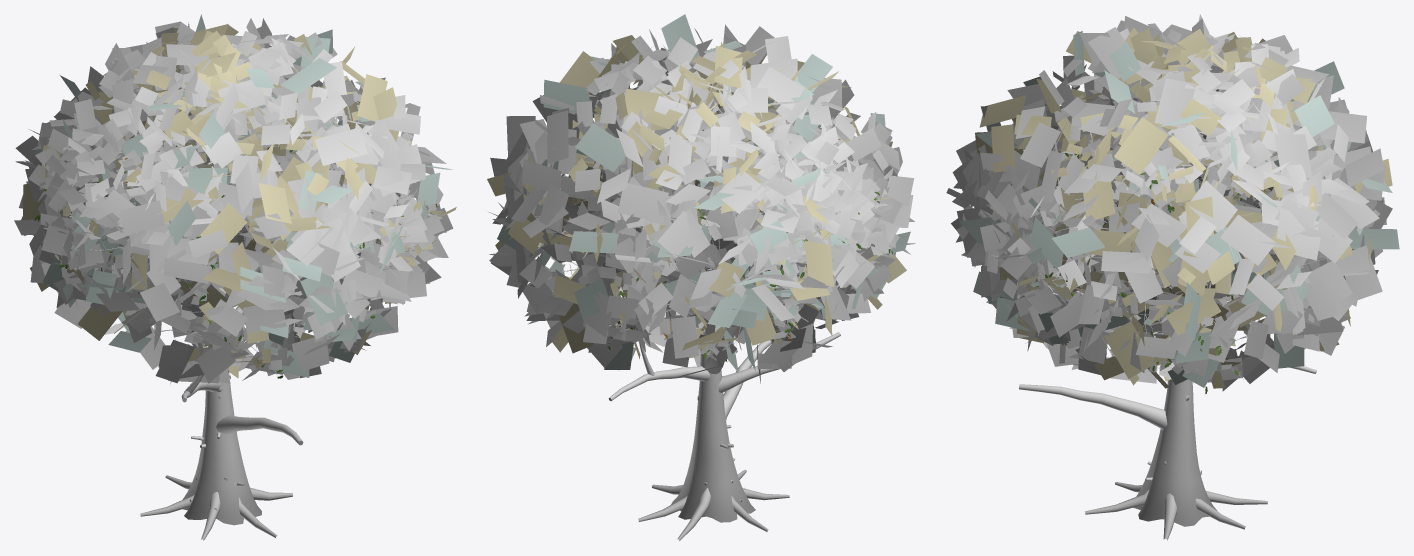
File: tree-oak-ultra.lod0.glb
3 views of the same model, side by side, from view 1: azimuth 30°, elevation 25°; view 2: azimuth 150°, elevation 25°; view 3: azimuth 270°, elevation 25° (orthographic). The views are drawn at different scales.
Parts seen in each view (by area): view 1: tree-oak-ultra; view 2: tree-oak-ultra; view 3: tree-oak-ultra.
Part boxes in pixels (box(x1,y1,x2,y2)): tree-oak-ultra: box(14, 14, 456, 540); tree-oak-ultra: box(487, 14, 915, 540); tree-oak-ultra: box(946, 14, 1399, 540).
Size of the model in its own units: 3.38 by 3.95 by 3.44.
